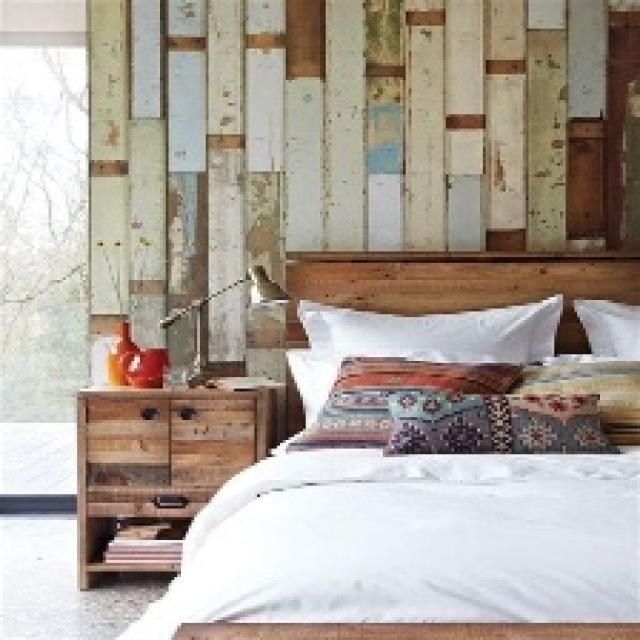Bed: (97, 252, 637, 637)
